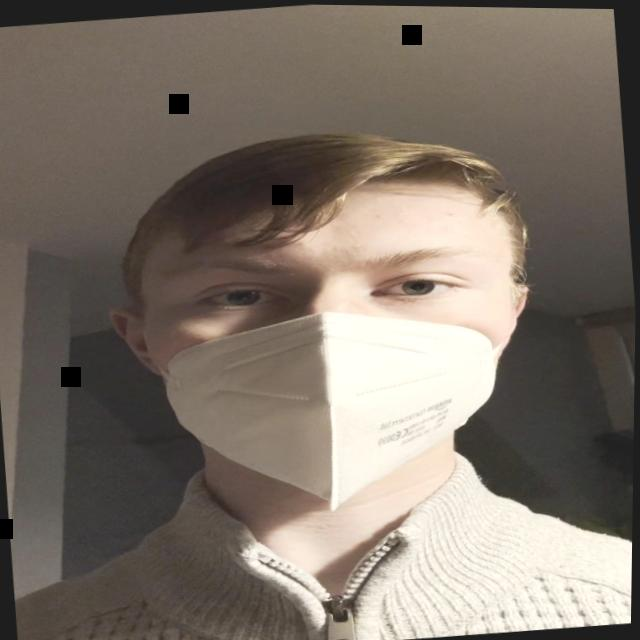Mask: (113, 140, 544, 525)
